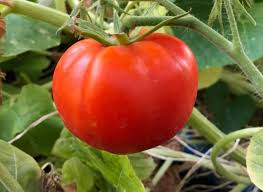tomato: (52, 33, 199, 153)
